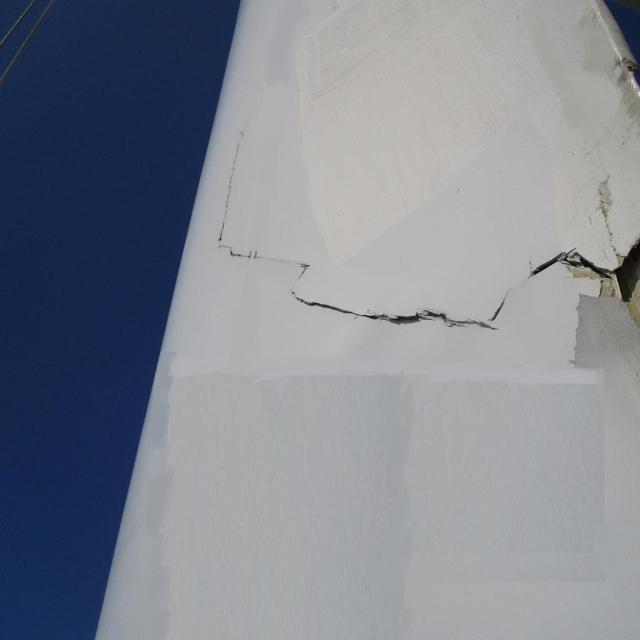crack: (229, 248, 519, 333), (538, 234, 637, 321), (220, 135, 242, 243)
